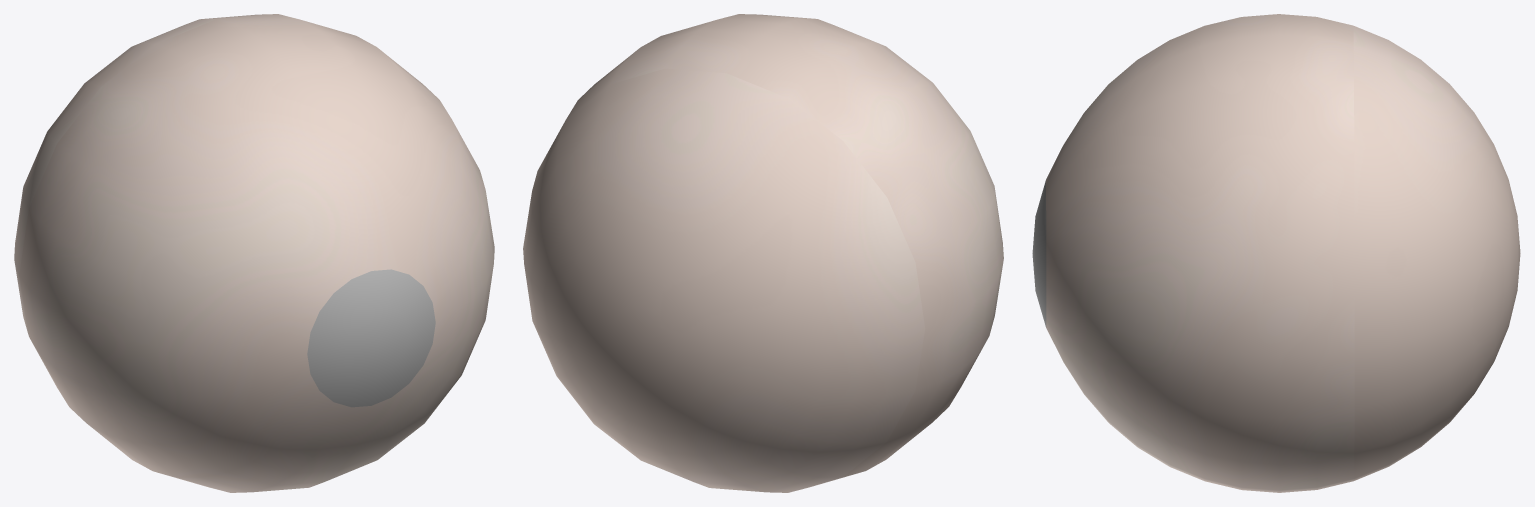
The model's file is basic_eyeball.fbx.
3 renders of one model, left to right at view 1: azimuth 30°, elevation 25°; view 2: azimuth 150°, elevation 25°; view 3: azimuth 270°, elevation 25°, orthographic.
Visible parts, largest first — view 1: eyeBallR; view 2: eyeBallR; view 3: eyeBallR.
Boxes of the visible parts, x1,y1,x2,y2 form: eyeBallR: (14, 14, 494, 492); eyeBallR: (523, 14, 1003, 492); eyeBallR: (1032, 14, 1520, 492).
Size of the model in its own units: 0.8947 by 0.8947 by 0.9047.
